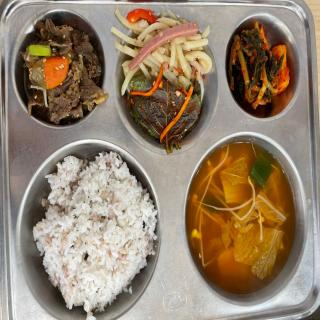Nasi: (36, 153, 159, 317)
